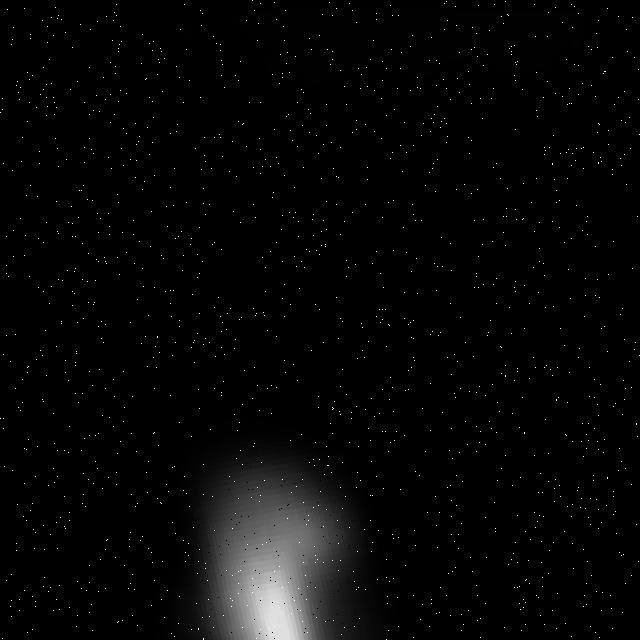person: (125, 352, 393, 640)
